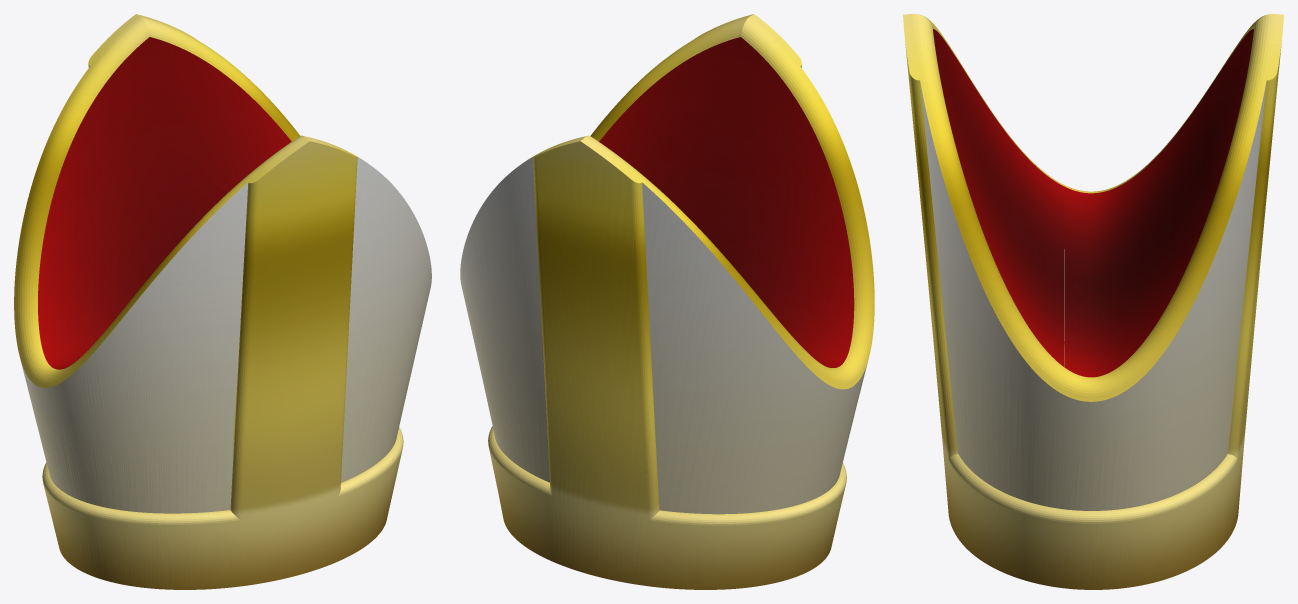
The model's file is mitre.glb.
The picture shows the model from 3 angles, left to right: view 1: azimuth 30°, elevation 25°; view 2: azimuth 150°, elevation 25°; view 3: azimuth 270°, elevation 25°; orthographic projection. The views are drawn at different scales.
Visible parts, largest first — view 1: Object_2; view 2: Object_2; view 3: Object_2.
Part boxes in pixels (x1,y1,x2,y2): Object_2: [14, 14, 431, 589]; Object_2: [460, 14, 874, 589]; Object_2: [903, 14, 1283, 589].
Size of the model in its own units: 2.35 by 2.71 by 1.89.
1 material, 1 textured.
